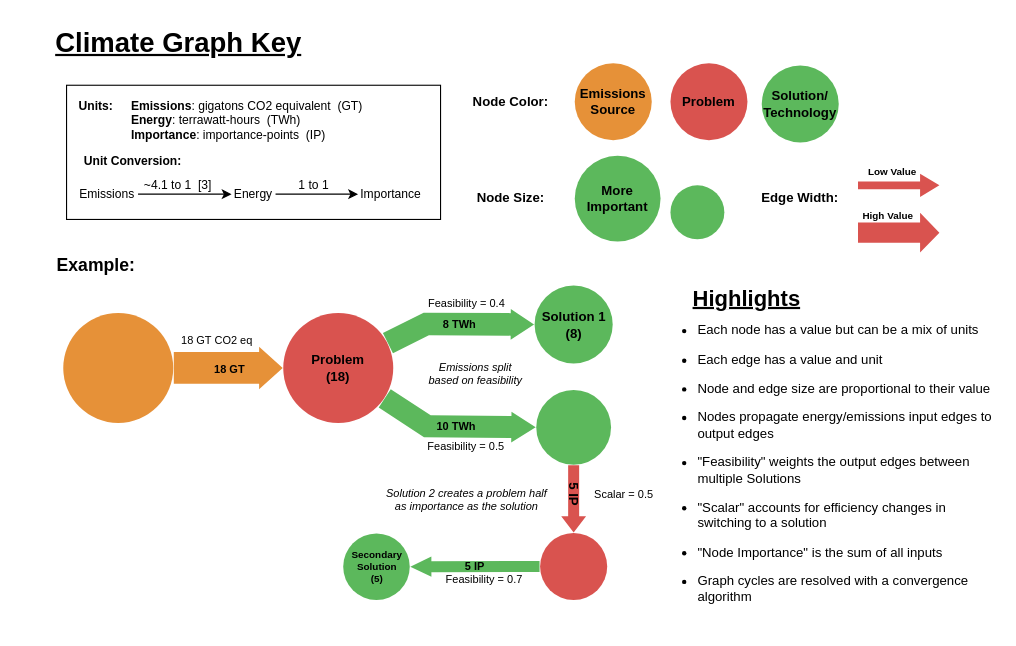
The diagram is 1016 pixels wide and 646 high, and some of its shapes have lost their labels. Here are the shapes that lost their labels. From the top down, the centre of each, then its label:
At point (697, 212): "Less Important".
At point (118, 367): "GHG Source (18)".
At point (573, 426): "Solution 2 (10)".
At point (573, 566): "Secondary Problem (5)".
